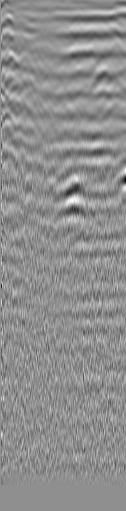상수: (12, 15, 32, 35)
